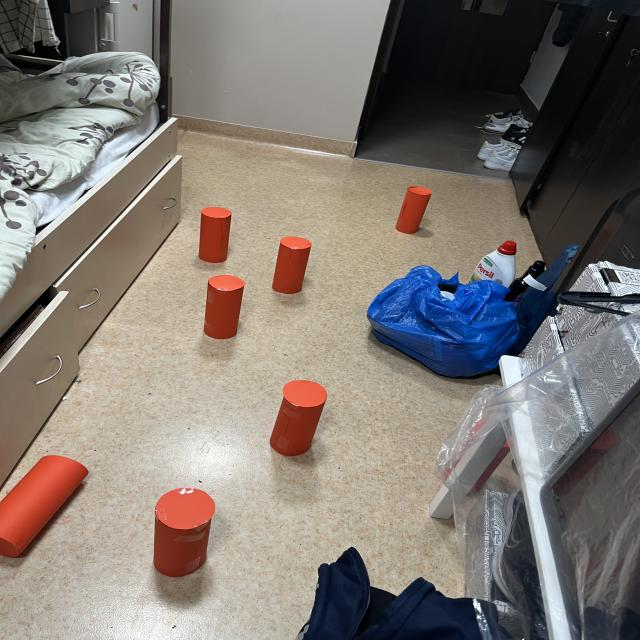przeszkoda: (0, 456, 87, 557), (154, 487, 215, 577), (270, 380, 327, 456), (204, 275, 245, 339), (272, 236, 311, 294), (199, 207, 232, 263), (396, 187, 432, 234)
